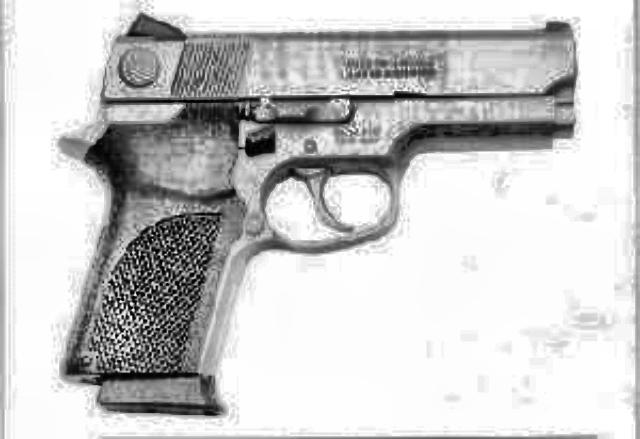pistol: (47, 14, 576, 420)
